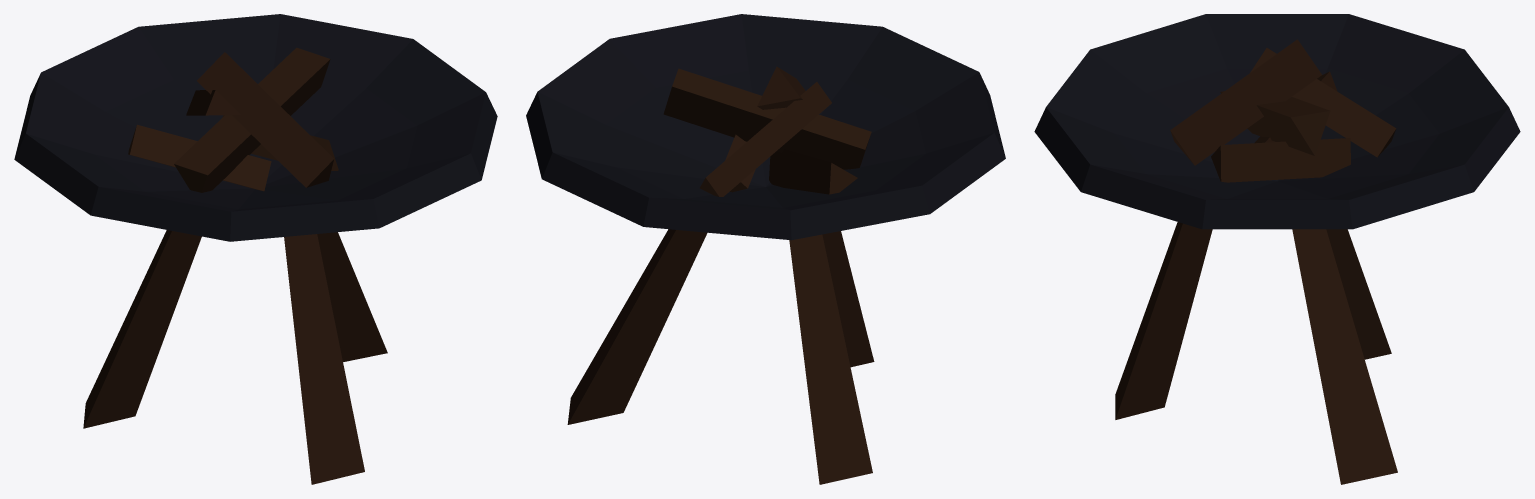
File: fire_pit.obj
3 views of the same model, side by side, from view 1: azimuth 30°, elevation 25°; view 2: azimuth 150°, elevation 25°; view 3: azimuth 270°, elevation 25° (orthographic).
Parts seen in each view (by area): view 1: Circle_Circle.001; view 2: Circle_Circle.001; view 3: Circle_Circle.001.
Boxes of the visible parts, x1,y1,x2,y2 form: Circle_Circle.001: (14,14,497,484); Circle_Circle.001: (526,14,1005,484); Circle_Circle.001: (1034,14,1520,484).
Bounding box in the file's own units: 2.3 × 1.96 × 2.42.
